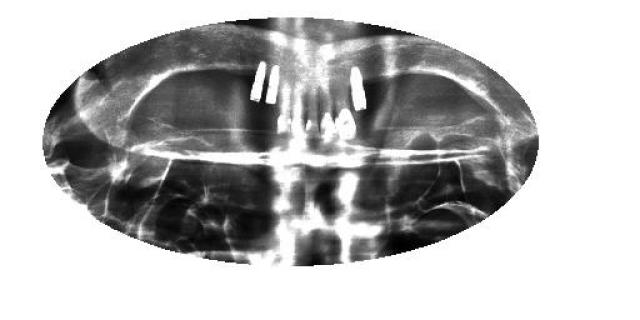Implant: (245, 54, 266, 102), (350, 63, 365, 115), (266, 63, 282, 109)
